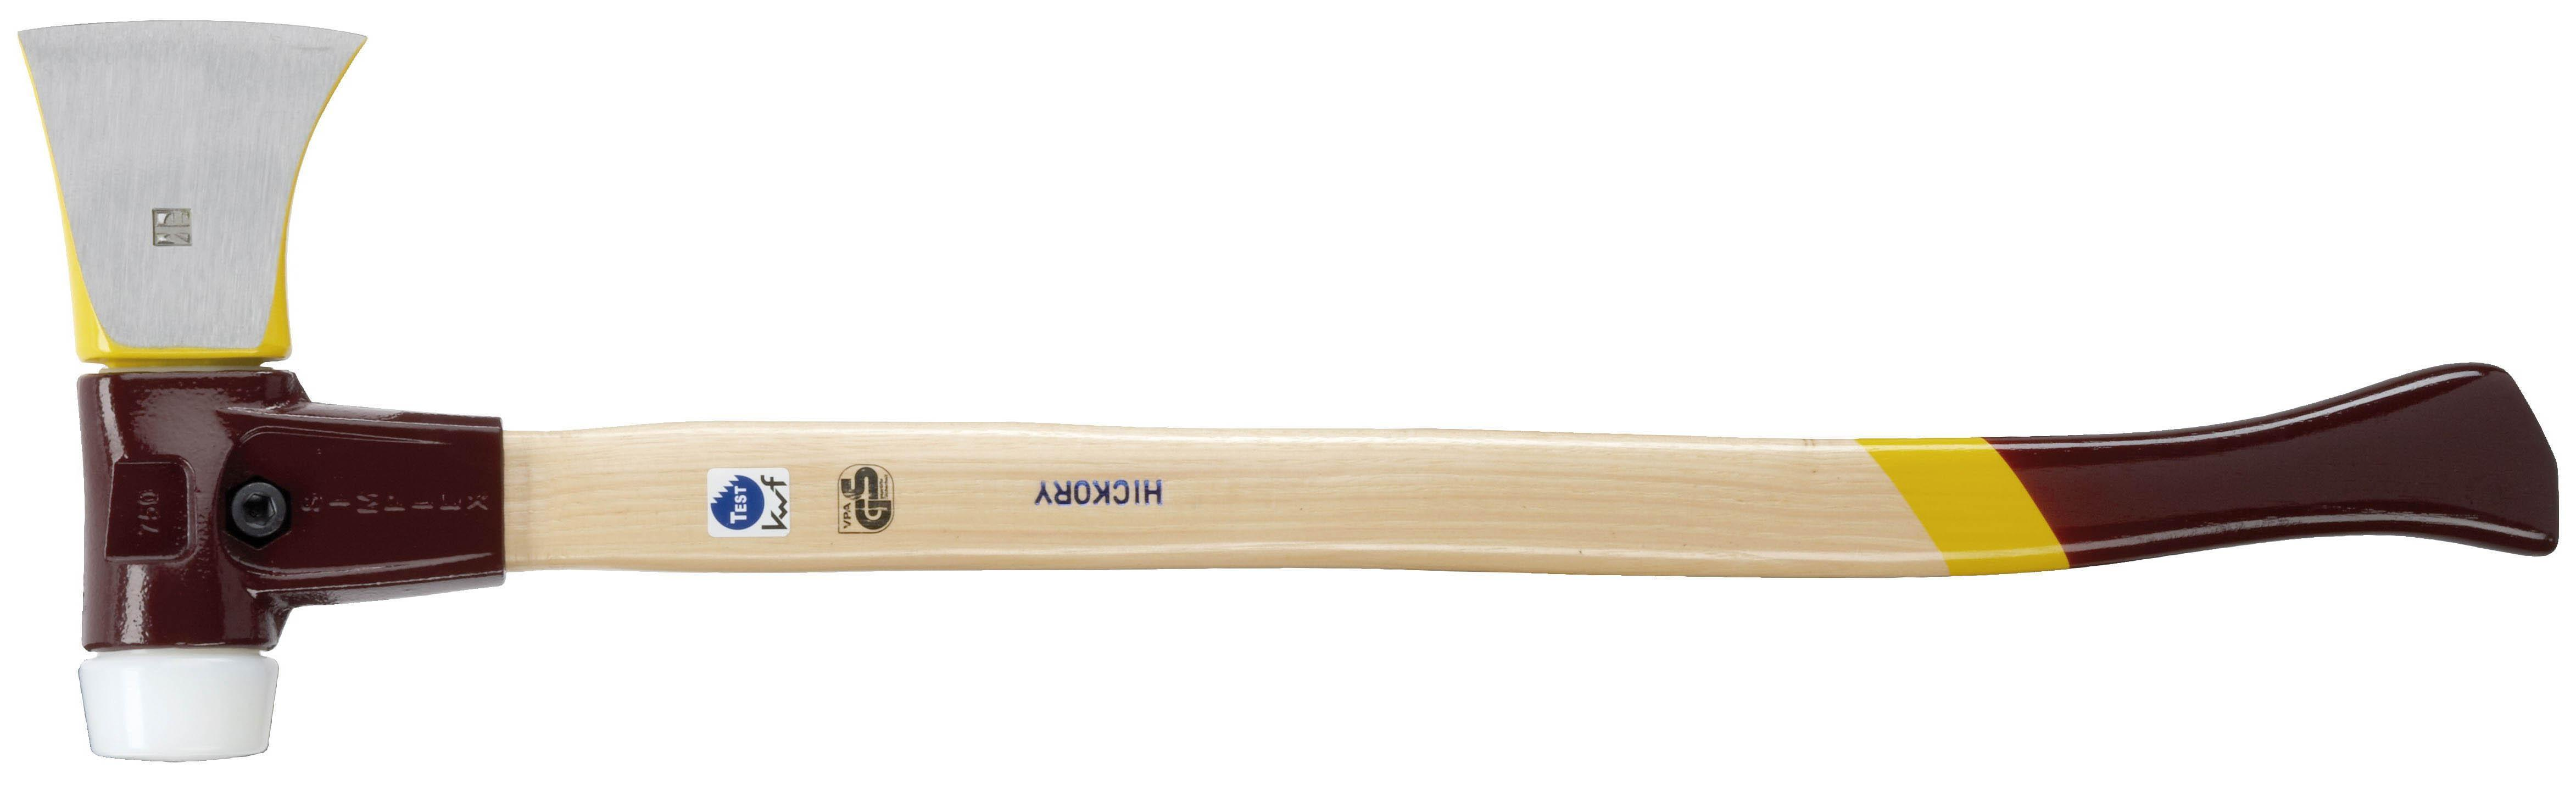machado: (20, 21, 2560, 760)
